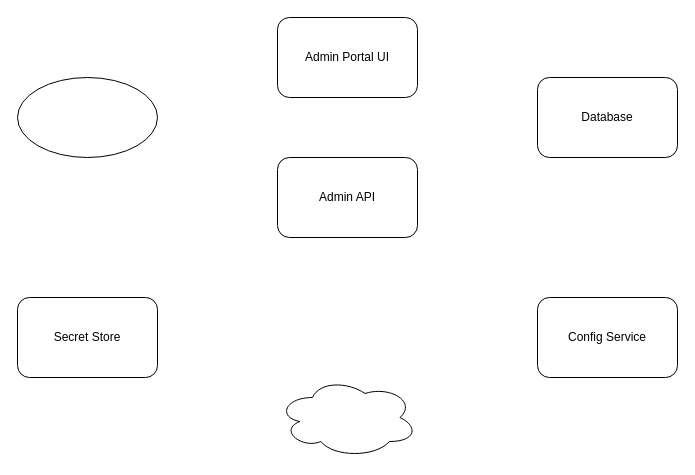
This 695x475 diagram has some shape labels left out. Here are the shapes that lost their labels. From the top down, the centre of each, then its label:
the point at 87,117: Admin User
the point at 347,417: Microsoft Entra ID
